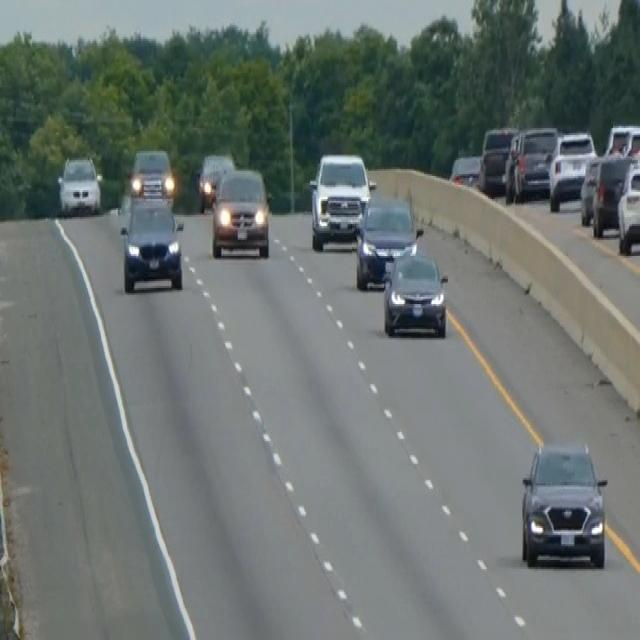car: (353, 194, 421, 290), (119, 192, 184, 292), (382, 245, 448, 338), (504, 122, 558, 202), (547, 128, 597, 212), (591, 151, 634, 237), (477, 122, 517, 194), (128, 146, 175, 206), (56, 153, 101, 215), (195, 151, 235, 212), (616, 160, 639, 254), (579, 153, 602, 224), (604, 121, 639, 160), (449, 151, 481, 189), (621, 126, 639, 164)
jeep: (517, 434, 610, 570), (307, 149, 376, 251)
minivan: (209, 163, 272, 260)
